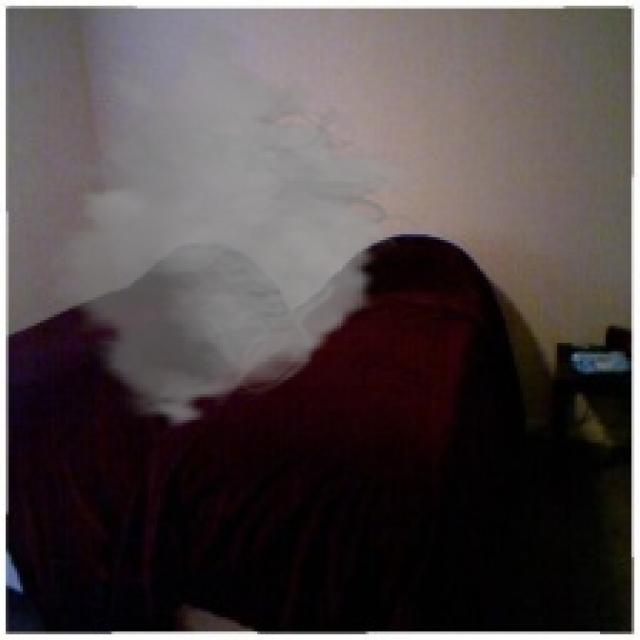Smoke: (14, 20, 426, 429)
